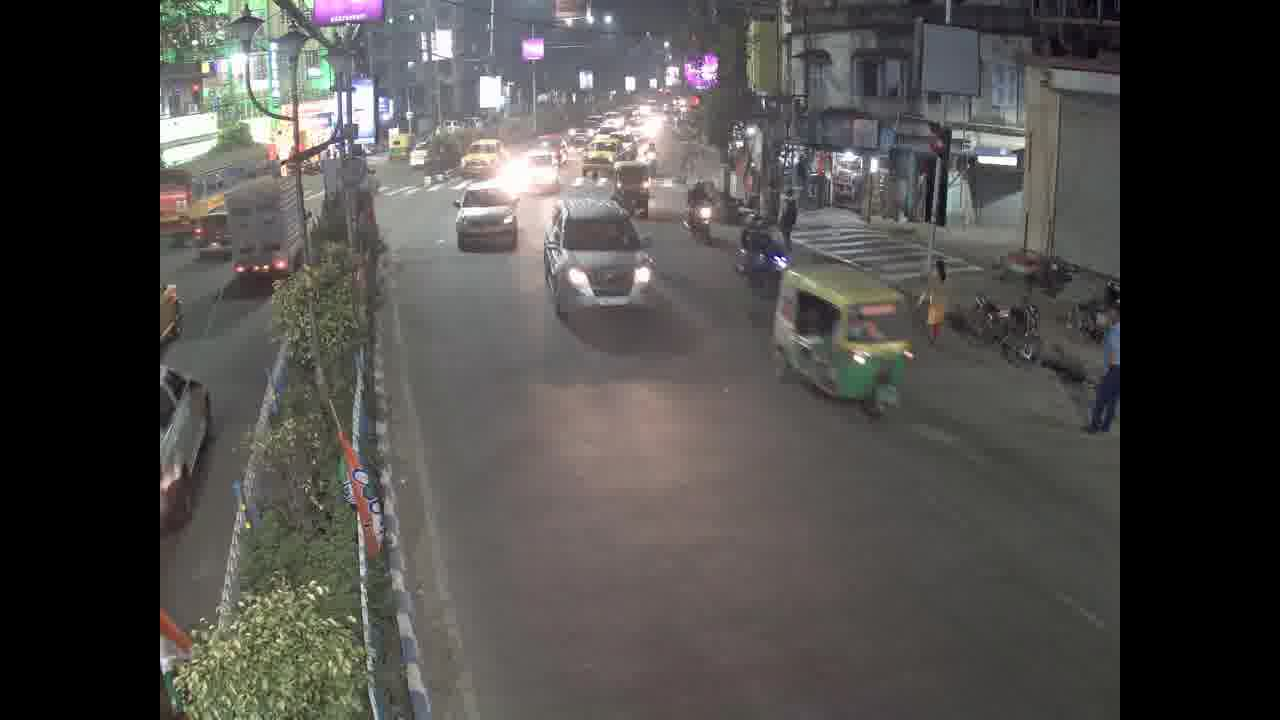auto-rickshaw: (773, 275, 907, 417), (613, 164, 653, 215)
bike: (966, 289, 1050, 387), (735, 245, 781, 297), (683, 205, 717, 245)
car: (555, 205, 654, 303), (457, 192, 517, 245), (461, 142, 502, 175)
person: (919, 250, 955, 343), (778, 187, 799, 249)
